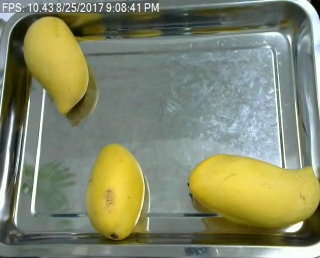Mango: (187, 147, 320, 229), (22, 13, 95, 112), (81, 138, 147, 241)
